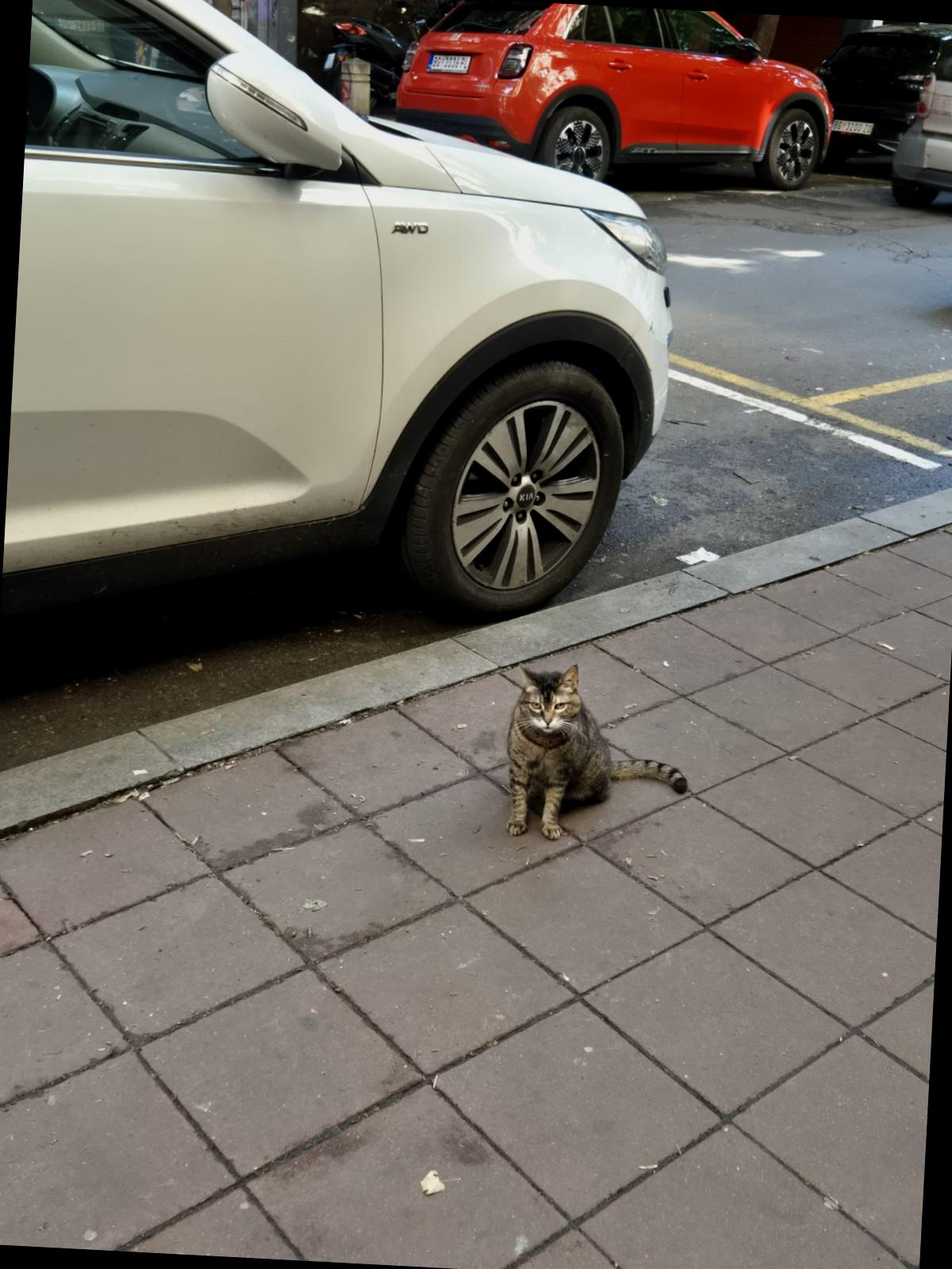macka: (501, 659, 695, 848)
